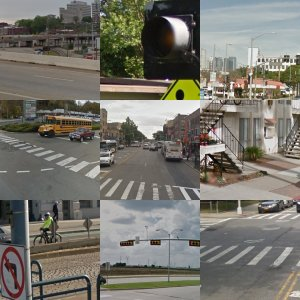汽車: (27, 115, 62, 153), (100, 48, 122, 90), (1, 72, 26, 98)
消防栓: (217, 12, 269, 84)
紅綠燈: (166, 227, 192, 256)
行人穿越道: (204, 235, 290, 269), (242, 121, 296, 156), (249, 160, 300, 196), (6, 54, 84, 67)
